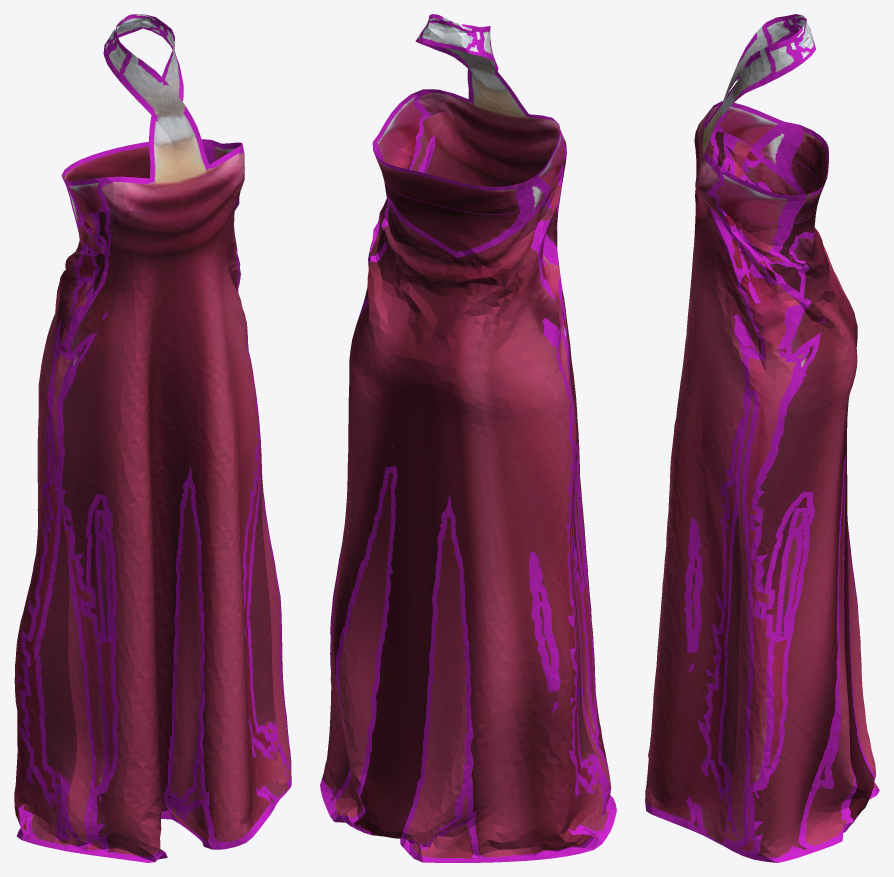
3 renders of one model, left to right at view 1: azimuth 30°, elevation 25°; view 2: azimuth 150°, elevation 25°; view 3: azimuth 270°, elevation 25°, orthographic. The views are drawn at different scales.
Bounding box in the file's own units: 0.3445 × 0.9646 × 0.2637.
1 material, 1 textured.
